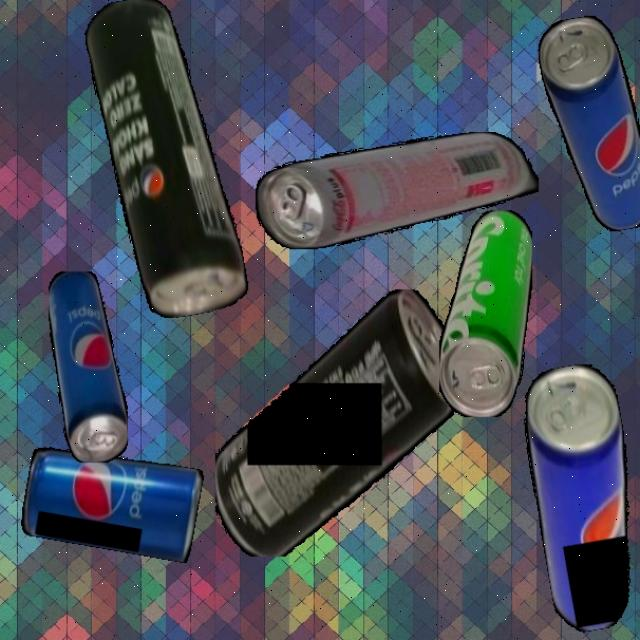debris: (214, 288, 458, 557), (80, 0, 252, 324), (514, 359, 640, 636), (254, 131, 538, 249), (533, 10, 640, 238), (19, 441, 204, 563), (438, 209, 532, 417), (47, 270, 128, 462)
